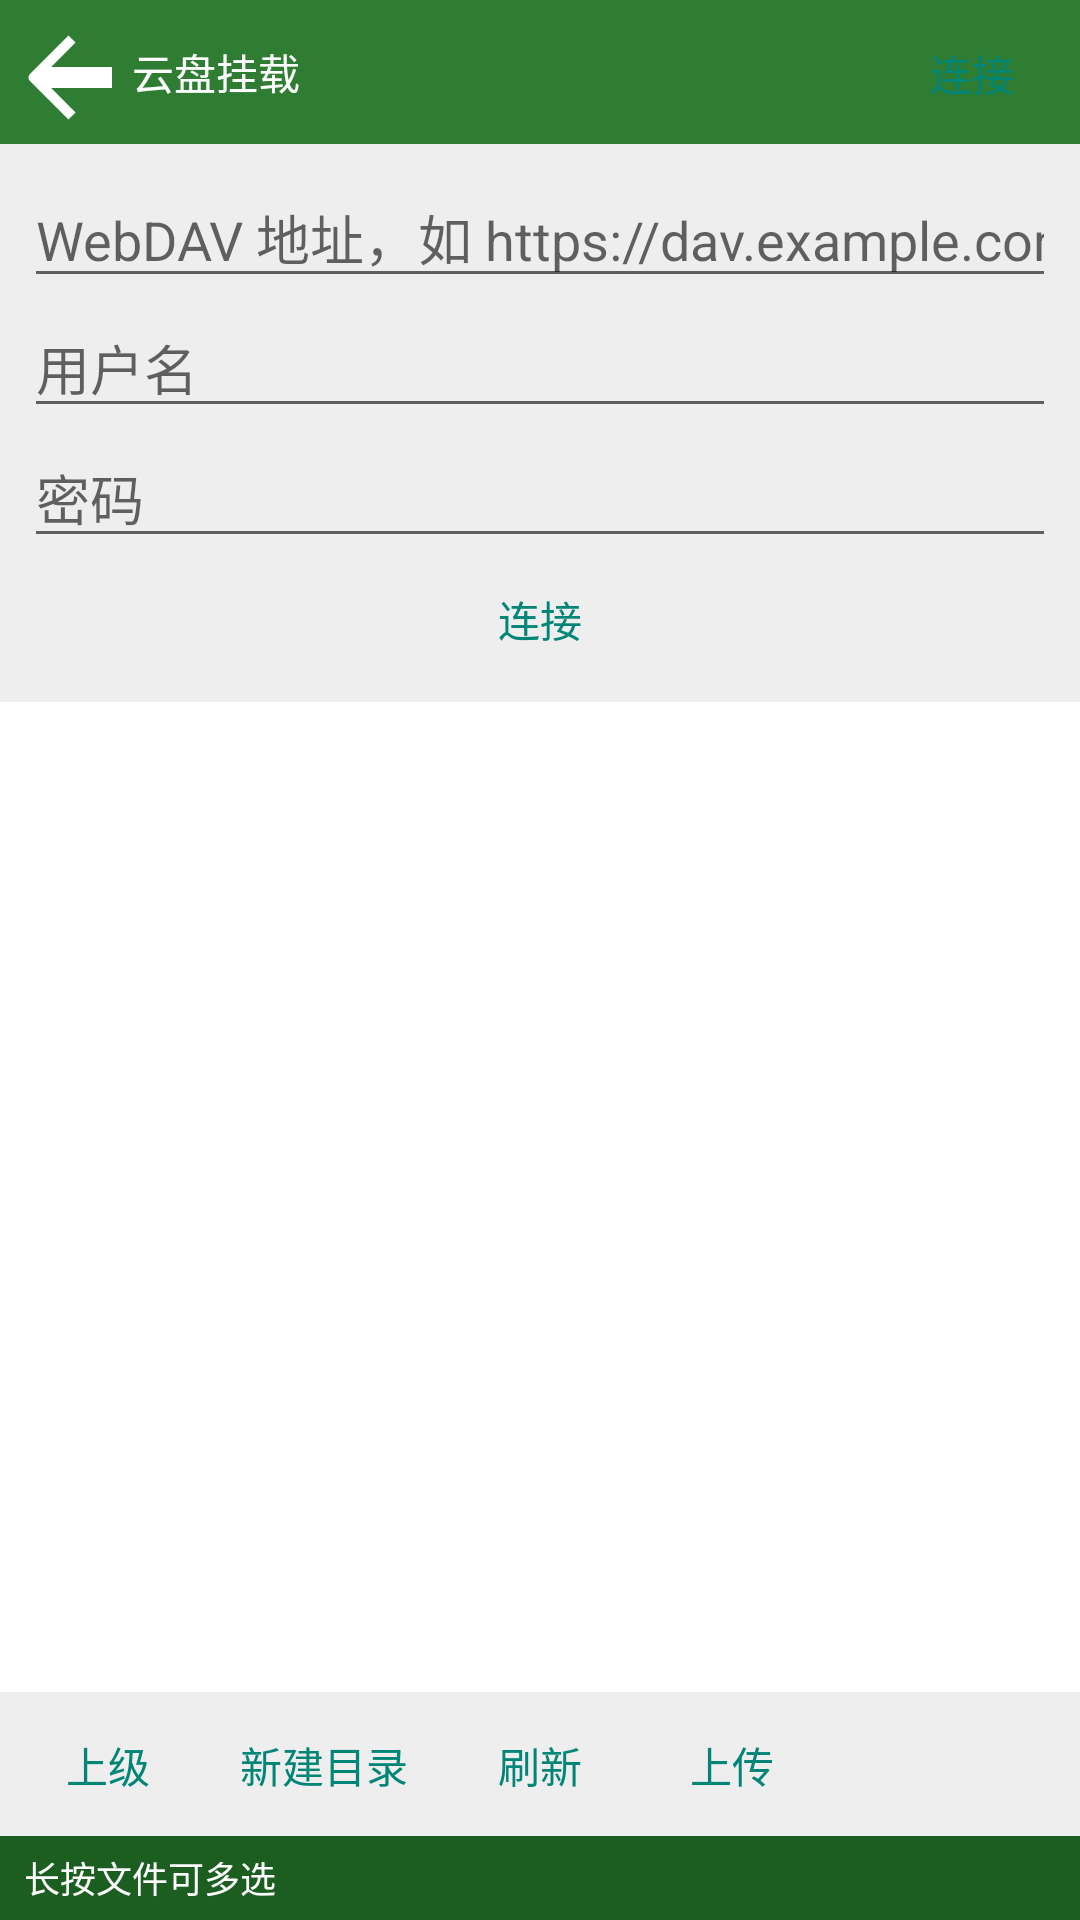

Named icons in this screenshot (1080px x 1920px) and their bounding boxes, rect(x1, y1, x2, y2):
返回上级: rect(28, 35, 112, 120)
